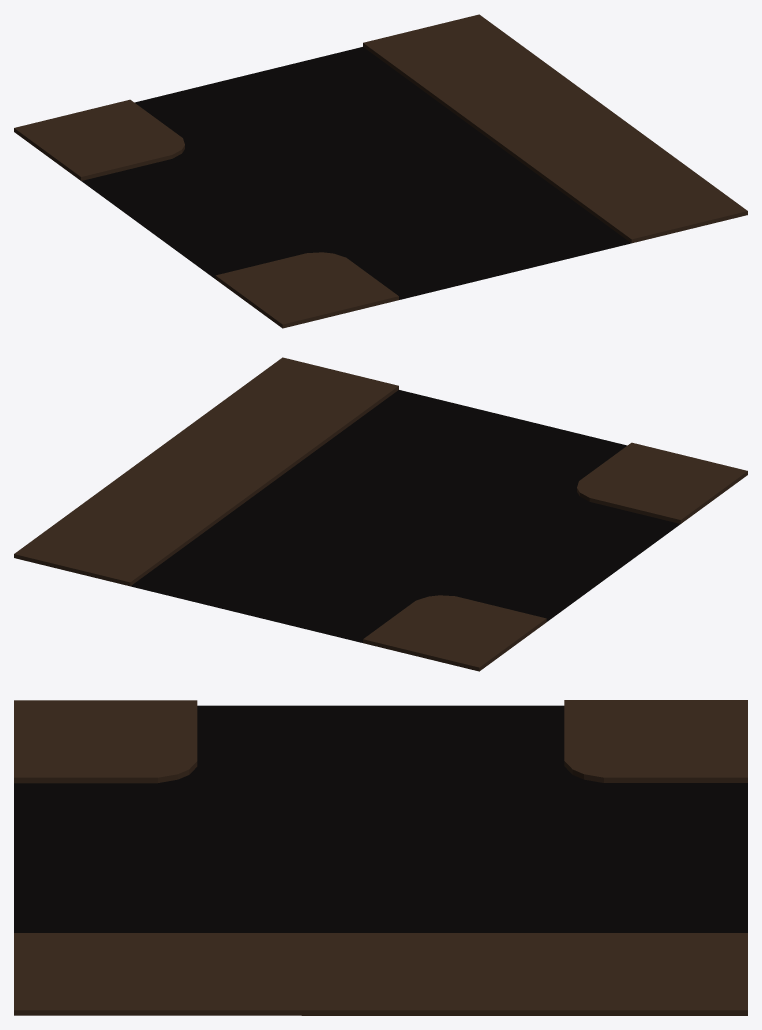
Rendered from T-turn_tile.FBX.
3 renders of one model, top to bottom at view 1: azimuth 30°, elevation 25°; view 2: azimuth 150°, elevation 25°; view 3: azimuth 270°, elevation 25°, orthographic. The views are drawn at different scales.
Visible parts, largest first — view 1: Crossroad_T-type_01; view 2: Crossroad_T-type_01; view 3: Crossroad_T-type_01.
Part boxes in pixels (<box>): Crossroad_T-type_01: <box>14,14,747,328</box>; Crossroad_T-type_01: <box>14,357,747,671</box>; Crossroad_T-type_01: <box>14,700,747,1015</box>.
Size of the model in its own units: 1900 by 1900 by 15.5.
